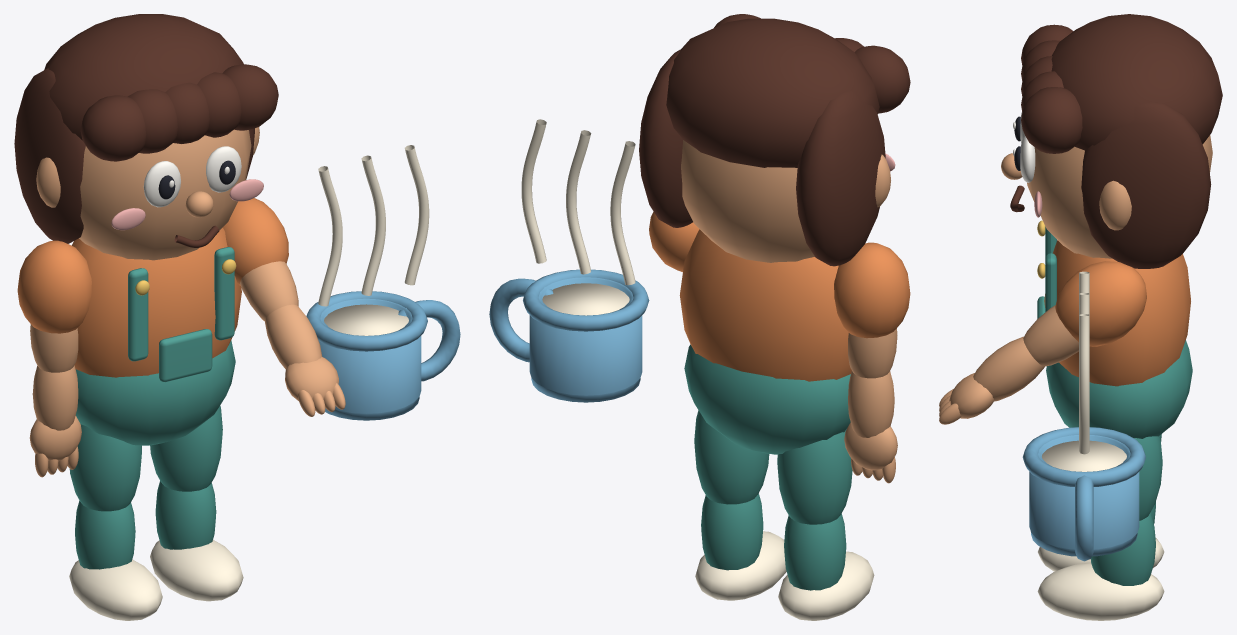
File: ava-need-hot.glb
3 views of the same model, side by side, from view 1: azimuth 30°, elevation 25°; view 2: azimuth 150°, elevation 25°; view 3: azimuth 270°, elevation 25° (orthographic). The views are drawn at different scales.
Parts seen in each view (by area): view 1: soft shirt, hair cap, clay head, overalls, bob hair, hollow cup wall, shirt sleeve, trouser leg, little shoe.001, little shoe, trouser leg.001, shirt sleeve.001 (+26 smaller); view 2: hair cap, soft shirt, bob hair, overalls, clay head, hollow cup wall, shirt sleeve, trouser leg, bob hair.001, trouser leg.001, lower leg, lower leg.001 (+15 smaller); view 3: bob hair.001, hair cap, soft shirt, overalls, hollow cup wall, shirt sleeve.001, clay head, little shoe.001, fringe.004, cup rim, forearm.001, lower leg.001 (+15 smaller).
Boxes of the visible parts, x1,y1,x2,y2 form: soft shirt: (72, 227, 241, 377); hair cap: (44, 14, 243, 140); clay head: (79, 129, 251, 260); overalls: (75, 340, 235, 445); bob hair: (14, 68, 85, 243); hollow cup wall: (319, 298, 421, 413); shirt sleeve: (17, 240, 91, 333); trouser leg: (69, 424, 141, 511); little shoe.001: (150, 540, 243, 601); little shoe: (69, 559, 162, 620); trouser leg.001: (150, 405, 222, 491); shirt sleeve.001: (223, 198, 288, 285); hair cap: (666, 18, 879, 167); soft shirt: (679, 229, 851, 381); bob hair: (796, 91, 885, 266); overalls: (684, 344, 850, 454); clay head: (681, 140, 814, 262); hollow cup wall: (529, 277, 642, 395); shirt sleeve: (834, 242, 910, 338); trouser leg: (777, 429, 852, 524); bob hair.001: (639, 49, 692, 227); trouser leg.001: (694, 410, 769, 504); lower leg: (784, 513, 846, 590); lower leg.001: (701, 493, 763, 570); bob hair.001: (1081, 102, 1211, 268); hair cap: (1051, 14, 1222, 150); soft shirt: (1044, 240, 1190, 386); overalls: (1046, 340, 1192, 438); hollow cup wall: (1029, 435, 1139, 549); shirt sleeve.001: (1055, 261, 1146, 346); clay head: (1027, 135, 1212, 258); little shoe.001: (1037, 562, 1164, 620); fringe.004: (1021, 87, 1082, 153); cup rim: (1022, 427, 1145, 486); forearm.001: (973, 336, 1044, 401); lower leg.001: (1090, 513, 1155, 585).
Bounding box in the file's own units: 1.46 × 1.87 × 0.8504.
